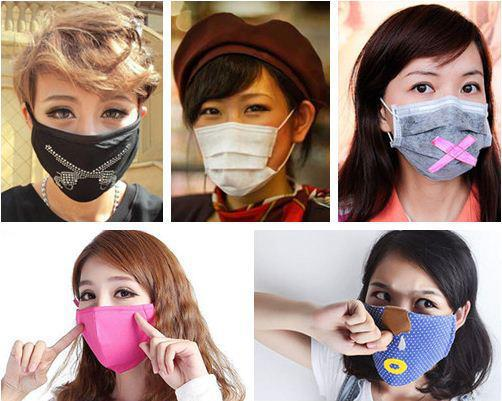OK: (34, 89, 144, 199), (355, 274, 464, 383), (379, 63, 486, 170), (186, 87, 291, 192), (67, 273, 162, 368)
